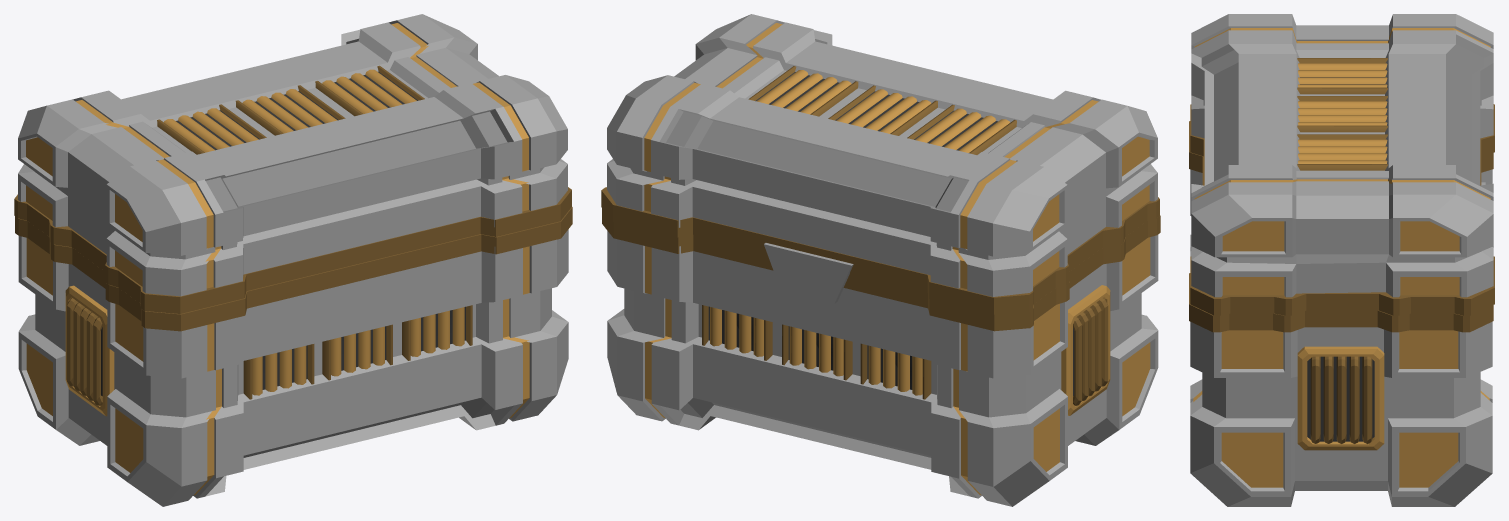
File: Props_Chest.gltf
3 renders of one model, left to right at view 1: azimuth 30°, elevation 25°; view 2: azimuth 150°, elevation 25°; view 3: azimuth 270°, elevation 25°, orthographic.
Visible parts, largest first — view 1: Props_ChestTop, Props_ChestBottom; view 2: Props_ChestTop, Props_ChestBottom; view 3: Props_ChestTop, Props_ChestBottom.
Boxes of the visible parts, <box> form: Props_ChestTop: <box>14,14,571,313</box>; Props_ChestBottom: <box>15,207,572,506</box>; Props_ChestTop: <box>601,14,1159,314</box>; Props_ChestBottom: <box>602,208,1160,506</box>; Props_ChestTop: <box>1190,14,1494,315</box>; Props_ChestBottom: <box>1189,121,1493,506</box>.
Size of the model in its own units: 1.29 by 0.911 by 0.8082.
